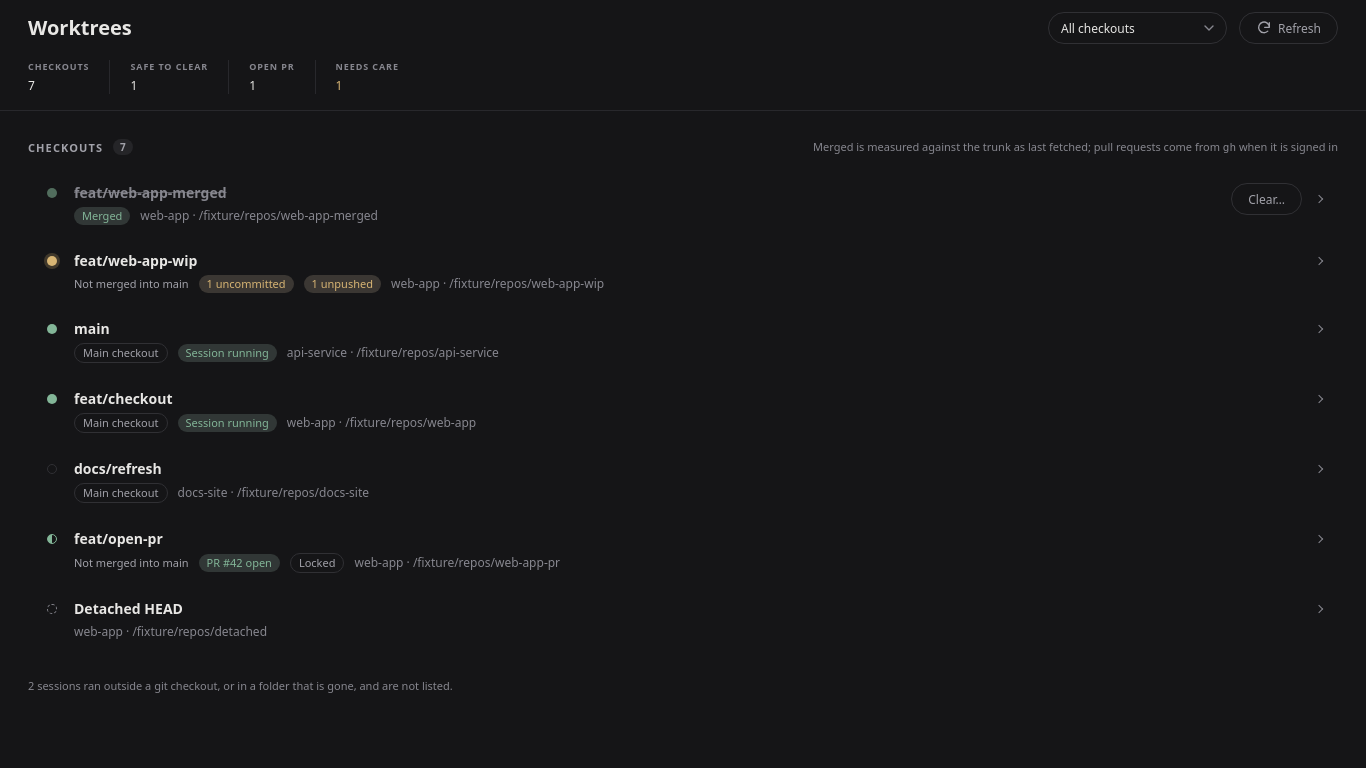
Test: Clear worktree confirmation › shows the reason of a server refusal and lets the list catch up
This screenshot has width=1366, height=768.
Expected: the heading "Worktrees" is shown, x1=28 y1=14 x2=132 y2=41
Click the button "Clear…".
click(1267, 199)  # box x1=1231 y1=183 x2=1302 y2=215
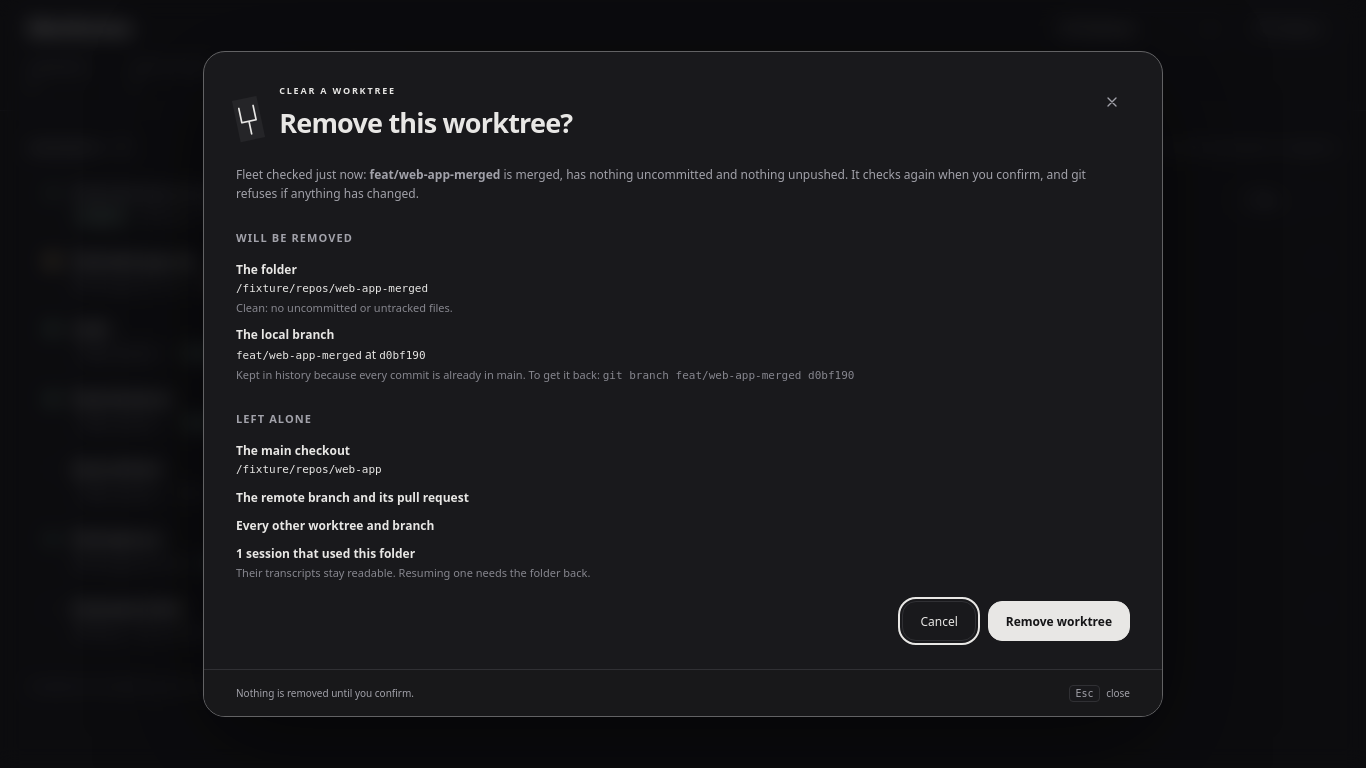
Click the button "Remove worktree".
click(1059, 621)  # box x1=988 y1=601 x2=1130 y2=641
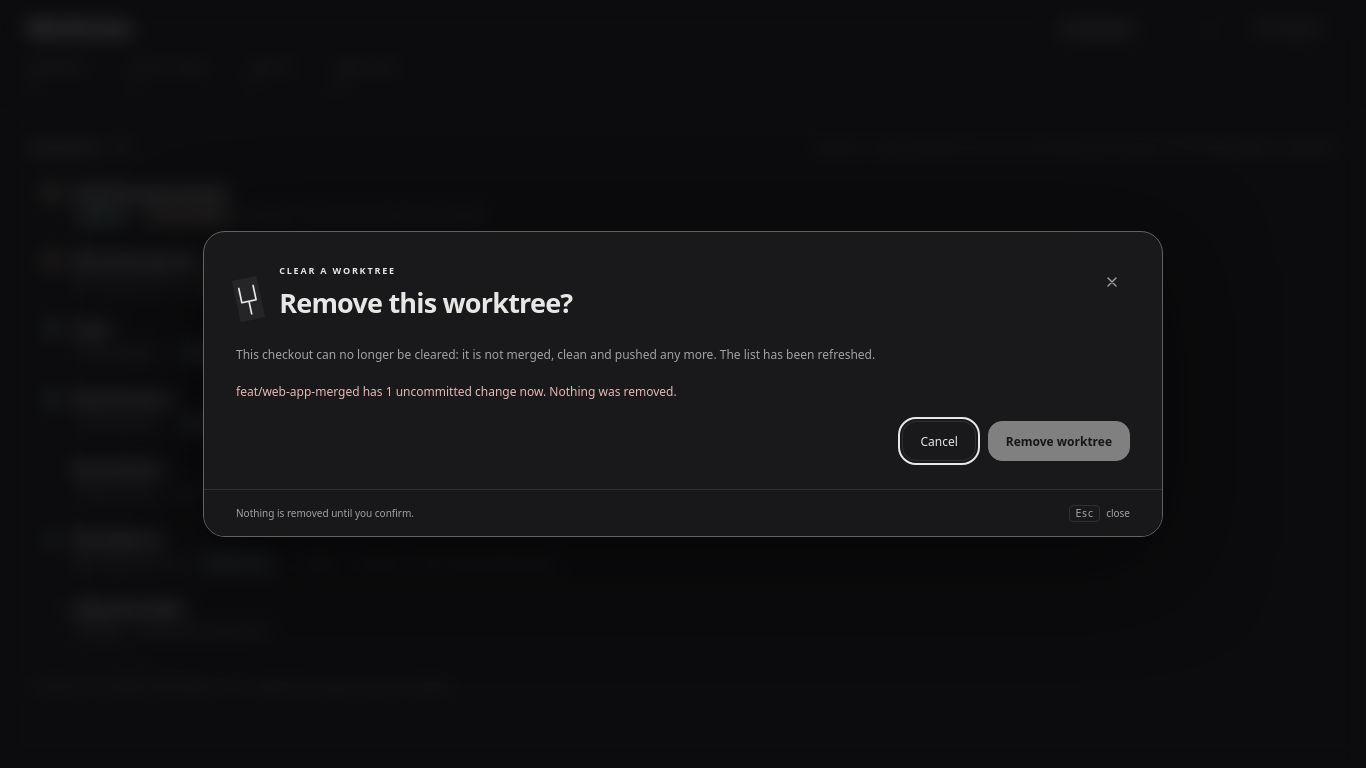
Expected: the message reads "feat/web-app-merged has 1 uncommitted change now. Nothing was removed.", x1=236 y1=383 x2=677 y2=400
Expected: the button "Remove worktree" is disabled, x1=988 y1=421 x2=1130 y2=461
Expected: the text "can no longer be cleared" is shown, x1=236 y1=346 x2=875 y2=363
